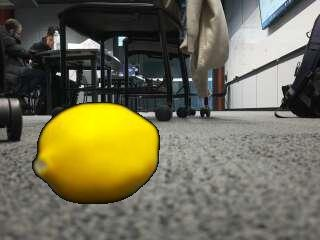lemon: (34, 103, 159, 204)
